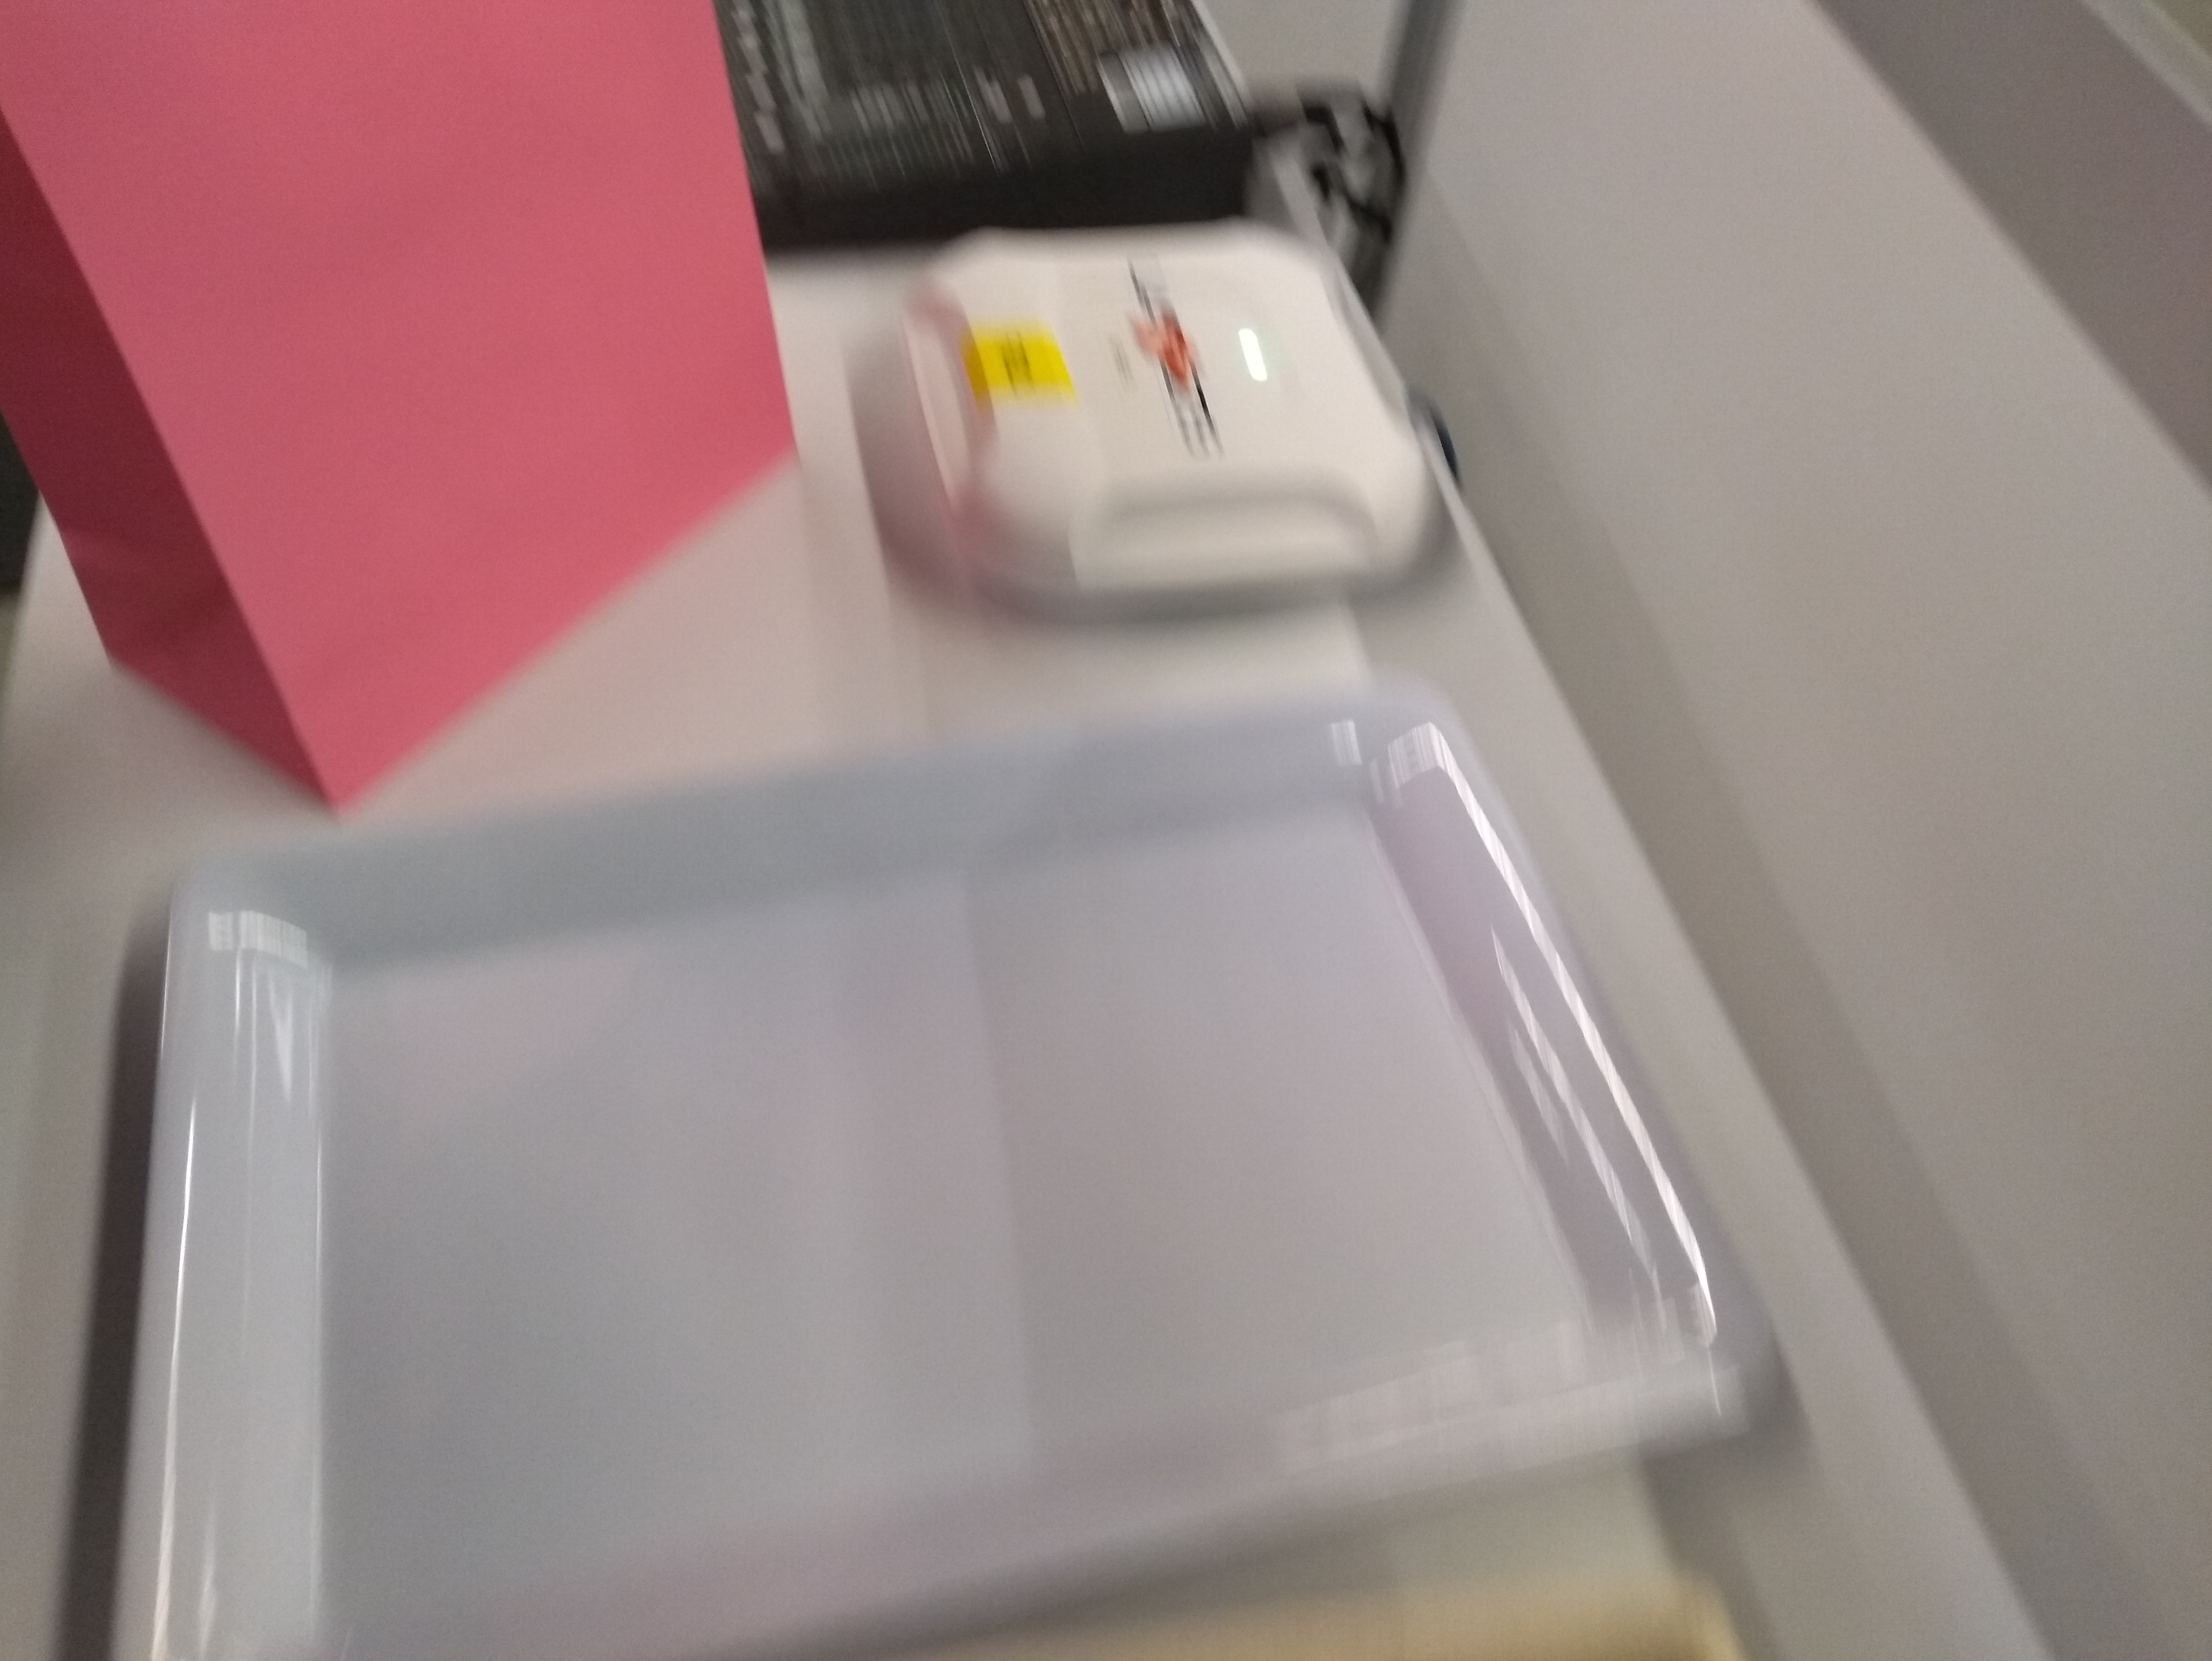help_me_carry_opl: (2, 0, 809, 834)
tray: (105, 665, 1774, 1661)
